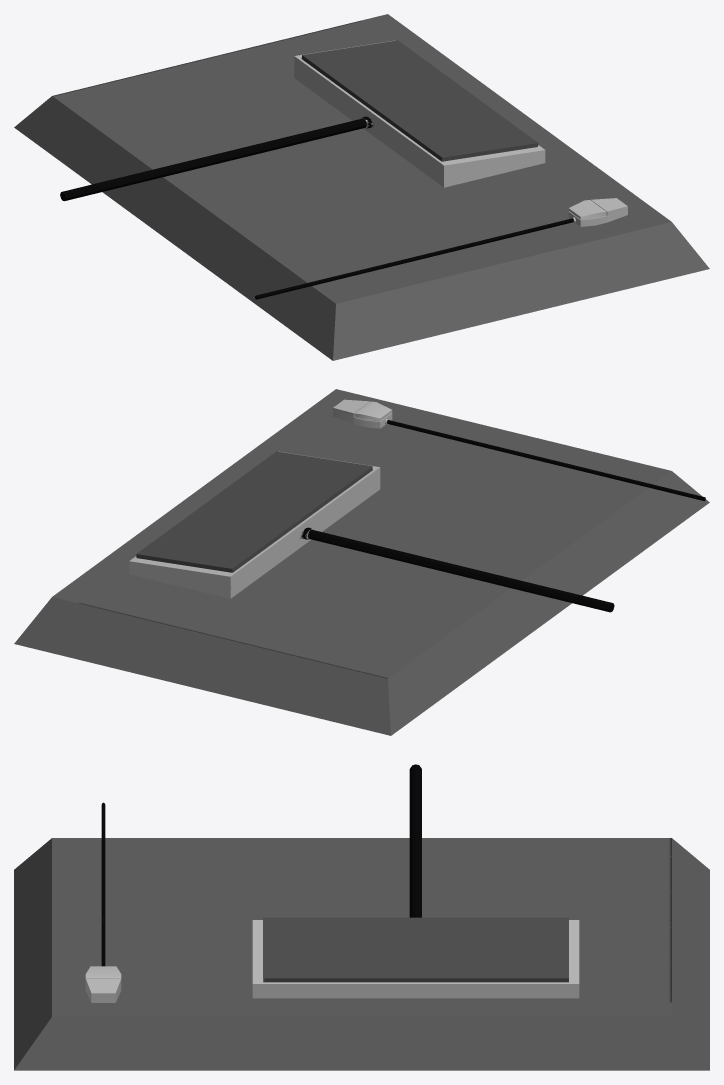
3 views of the same model, one above another, from view 1: azimuth 30°, elevation 25°; view 2: azimuth 150°, elevation 25°; view 3: azimuth 270°, elevation 25° (orthographic). The views are drawn at different scales.
Parts seen in each view (by area): view 1: computermat, keyboard, mouse; view 2: computermat, keyboard, mouse; view 3: computermat, keyboard, mouse.
Boxes of the visible parts, x1,y1,x2,y2 form: computermat: (14,14,709,360); keyboard: (60,40,545,201); mouse: (255,198,627,299); computermat: (14,389,709,735); keyboard: (129,451,614,612); mouse: (333,399,705,501); computermat: (14,838,709,1070); keyboard: (252,764,579,998); mouse: (85,802,121,1002).
Bounding box in the file's own units: 357 × 48.08 × 426.
1 material, 1 textured.
